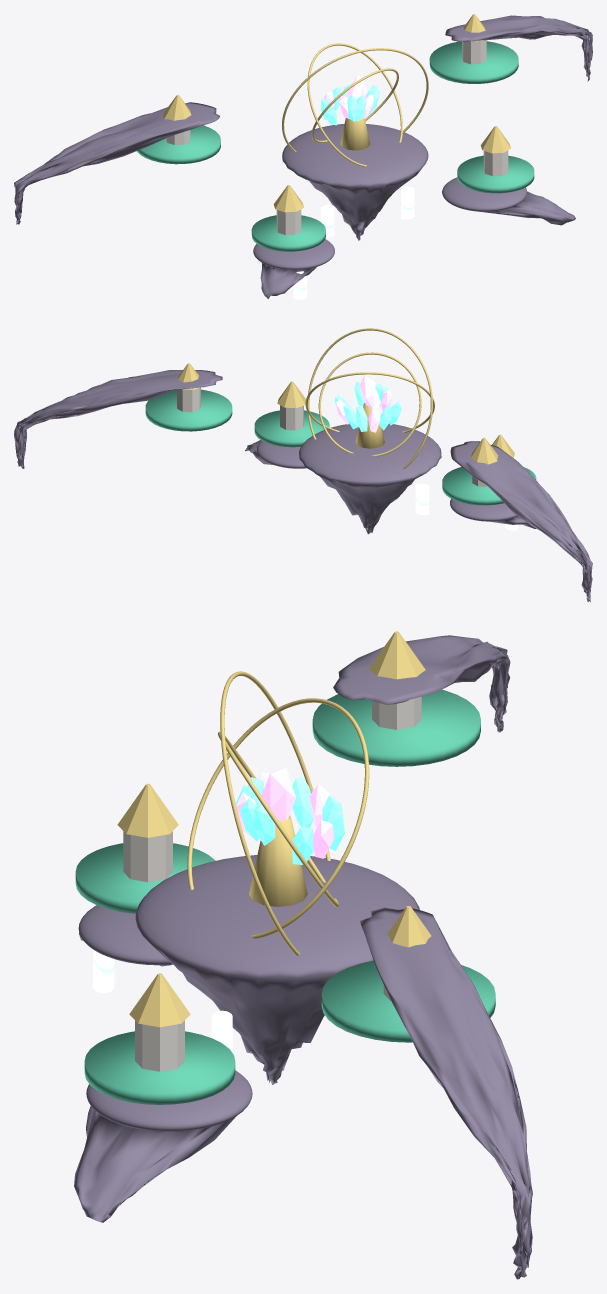
The model's file is aether_archipelago.glb.
The picture shows the model from 3 angles, top to bottom: view 1: azimuth 30°, elevation 25°; view 2: azimuth 150°, elevation 25°; view 3: azimuth 270°, elevation 25°; orthographic projection. The views are drawn at different scales.
Parts seen in each view (by area): view 1: SkyIsland_0_Sanctuary, SkyIsland_1_WindDock, SkyIsland_4_StarForge, SkyIsland_2_ChronoSpire, SkyIsland_2_ChronoSpire_EmeraldCap, SkyIsland_3_WaterfallReef, SkyIsland_4_StarForge_EmeraldCap, SkyIsland_1_WindDock_EmeraldCap, SkyIsland_3_WaterfallReef_EmeraldCap, Orrery_Ring_2, Orrery_Ring_1, WorldTree_GoldenTrunk (+9 smaller); view 2: SkyIsland_0_Sanctuary, SkyIsland_1_WindDock, SkyIsland_2_ChronoSpire, SkyIsland_2_ChronoSpire_EmeraldCap, SkyIsland_4_StarForge_EmeraldCap, SkyIsland_1_WindDock_EmeraldCap, SkyIsland_3_WaterfallReef, SkyIsland_4_StarForge, Orrery_Ring_2, Orrery_Ring_0, Orrery_Ring_1, WorldTree_GoldenTrunk (+6 smaller); view 3: SkyIsland_0_Sanctuary, SkyIsland_2_ChronoSpire, SkyIsland_4_StarForge, SkyIsland_1_WindDock_EmeraldCap, SkyIsland_4_StarForge_EmeraldCap, SkyIsland_1_WindDock, SkyIsland_2_ChronoSpire_EmeraldCap, SkyIsland_3_WaterfallReef_EmeraldCap, SkyIsland_3_WaterfallReef, WorldTree_GoldenTrunk, Orrery_Ring_1, Orrery_Ring_2 (+10 smaller).
Part boxes in pixels (box(x1,y1,x2,y2)): SkyIsland_0_Sanctuary: box(282, 124, 428, 240); SkyIsland_1_WindDock: box(14, 102, 219, 224); SkyIsland_4_StarForge: box(442, 177, 575, 225); SkyIsland_2_ChronoSpire: box(445, 15, 592, 81); SkyIsland_2_ChronoSpire_EmeraldCap: box(429, 41, 518, 83); SkyIsland_3_WaterfallReef: box(253, 239, 334, 298); SkyIsland_4_StarForge_EmeraldCap: box(457, 155, 534, 193); SkyIsland_1_WindDock_EmeraldCap: box(137, 125, 220, 164); SkyIsland_3_WaterfallReef_EmeraldCap: box(251, 215, 325, 251); Orrery_Ring_2: box(282, 48, 428, 152); Orrery_Ring_1: box(307, 43, 402, 166); WorldTree_GoldenTrunk: box(340, 118, 370, 150); SkyIsland_0_Sanctuary: box(299, 423, 441, 534); SkyIsland_1_WindDock: box(450, 441, 592, 602); SkyIsland_2_ChronoSpire: box(14, 370, 222, 468); SkyIsland_2_ChronoSpire_EmeraldCap: box(145, 389, 232, 431); SkyIsland_4_StarForge_EmeraldCap: box(254, 410, 329, 447); SkyIsland_1_WindDock_EmeraldCap: box(442, 467, 503, 505); SkyIsland_3_WaterfallReef: box(450, 498, 536, 528); SkyIsland_4_StarForge: box(245, 440, 306, 468); Orrery_Ring_2: box(307, 328, 432, 468); Orrery_Ring_0: box(318, 352, 421, 456); Orrery_Ring_1: box(305, 372, 434, 432); WorldTree_GoldenTrunk: box(355, 403, 384, 448); SkyIsland_0_Sanctuary: box(135, 855, 419, 1084); SkyIsland_2_ChronoSpire: box(360, 907, 532, 1279); SkyIsland_4_StarForge: box(74, 1070, 252, 1222); SkyIsland_1_WindDock_EmeraldCap: box(312, 689, 480, 766); SkyIsland_4_StarForge_EmeraldCap: box(84, 1031, 235, 1104); SkyIsland_1_WindDock: box(333, 635, 510, 732); SkyIsland_2_ChronoSpire_EmeraldCap: box(321, 960, 495, 1042); SkyIsland_3_WaterfallReef_EmeraldCap: box(75, 843, 215, 913); SkyIsland_3_WaterfallReef: box(78, 905, 172, 966); WorldTree_GoldenTrunk: box(249, 815, 307, 906); Orrery_Ring_1: box(187, 698, 369, 938); Orrery_Ring_2: box(220, 671, 330, 955).
Bounding box in the file's own units: 22.27 × 7.33 × 7.75.
